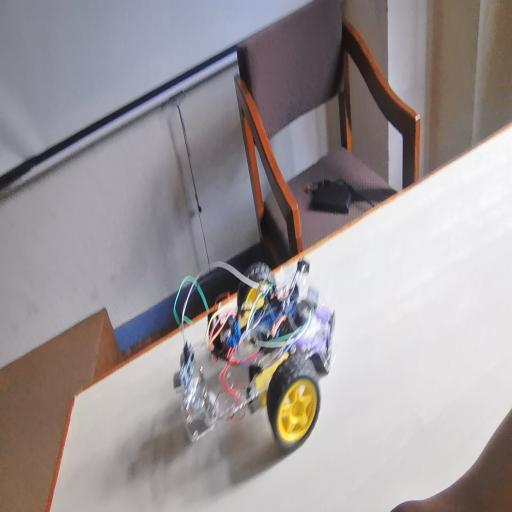car: (148, 219, 342, 431)
